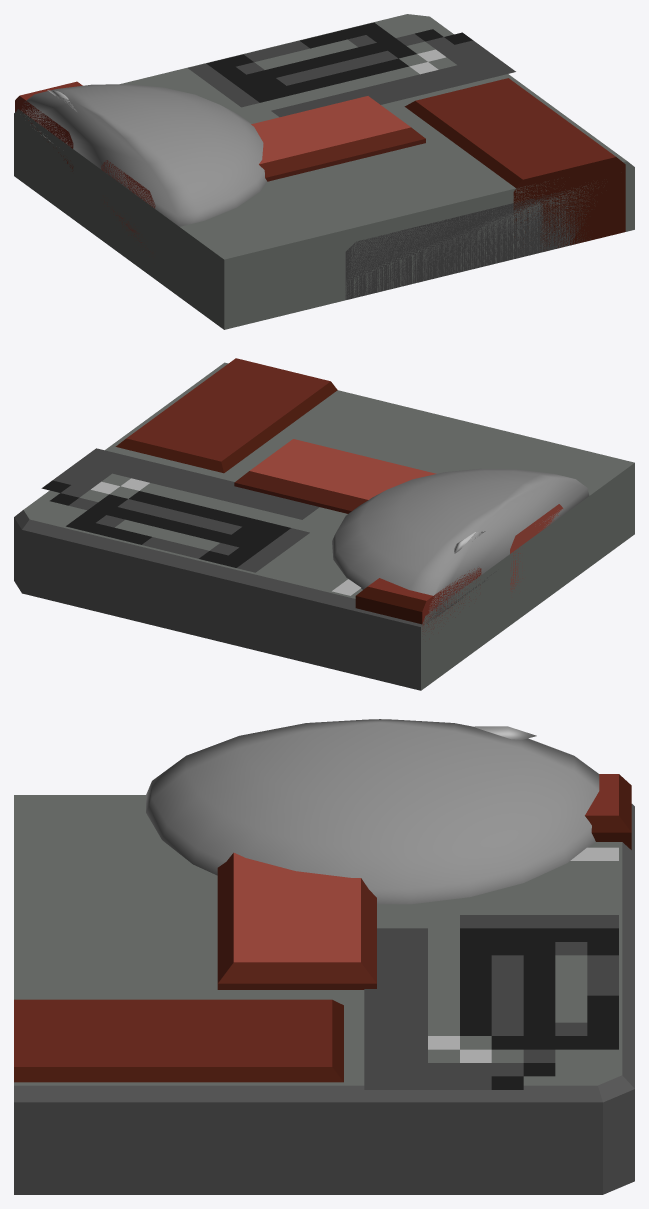
The model's file is newshs-167.glb.
The picture shows the model from 3 angles, top to bottom: view 1: azimuth 30°, elevation 25°; view 2: azimuth 150°, elevation 25°; view 3: azimuth 270°, elevation 25°; orthographic projection. The views are drawn at different scales.
Visible parts, largest first — view 1: newshs-167; view 2: newshs-167; view 3: newshs-167.
Part boxes in pixels (x1=…): newshs-167: x1=14, y1=14, x2=634, y2=329; newshs-167: x1=14, y1=358, x2=634, y2=690; newshs-167: x1=14, y1=719, x2=634, y2=1194.
Bounding box in the file's own units: 1.83 × 0.52 × 1.62.
